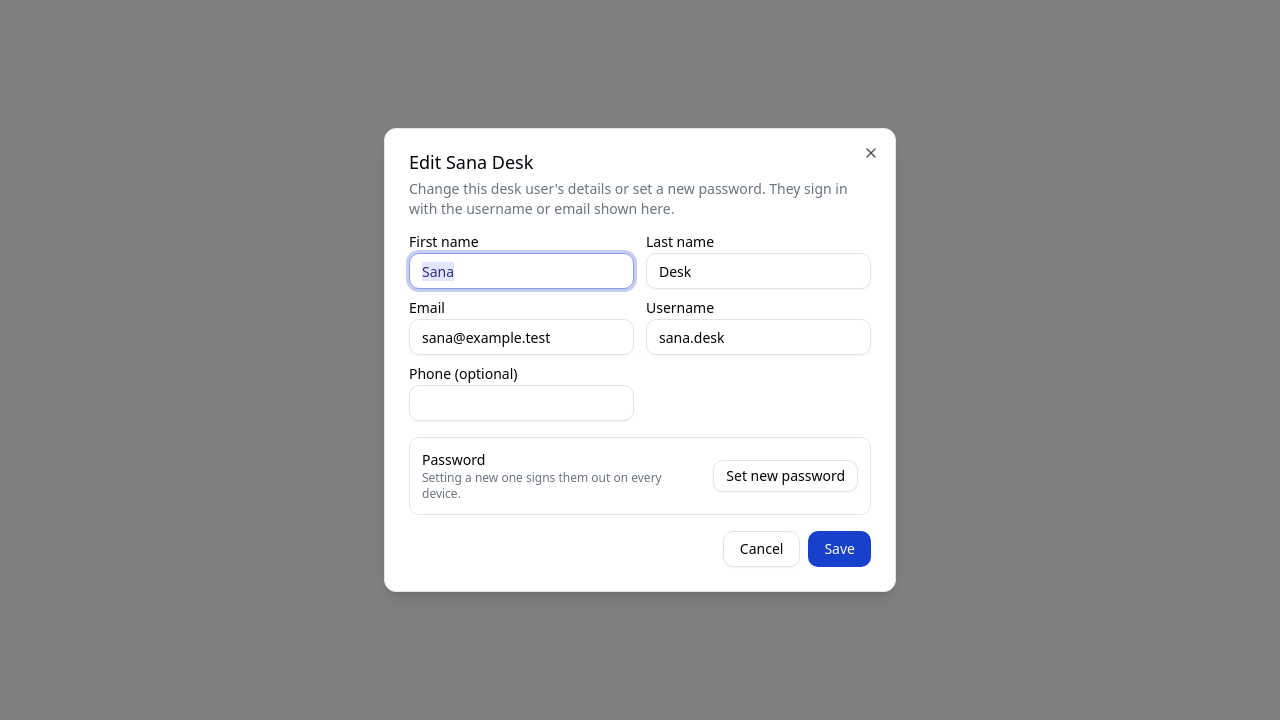
Test: EditApricartAccountDialog › refuses to send when nothing changed
The width and height of the screenshot is (1280, 720).
Click the button "Save": (840, 549) x1=808 y1=531 x2=871 y2=567
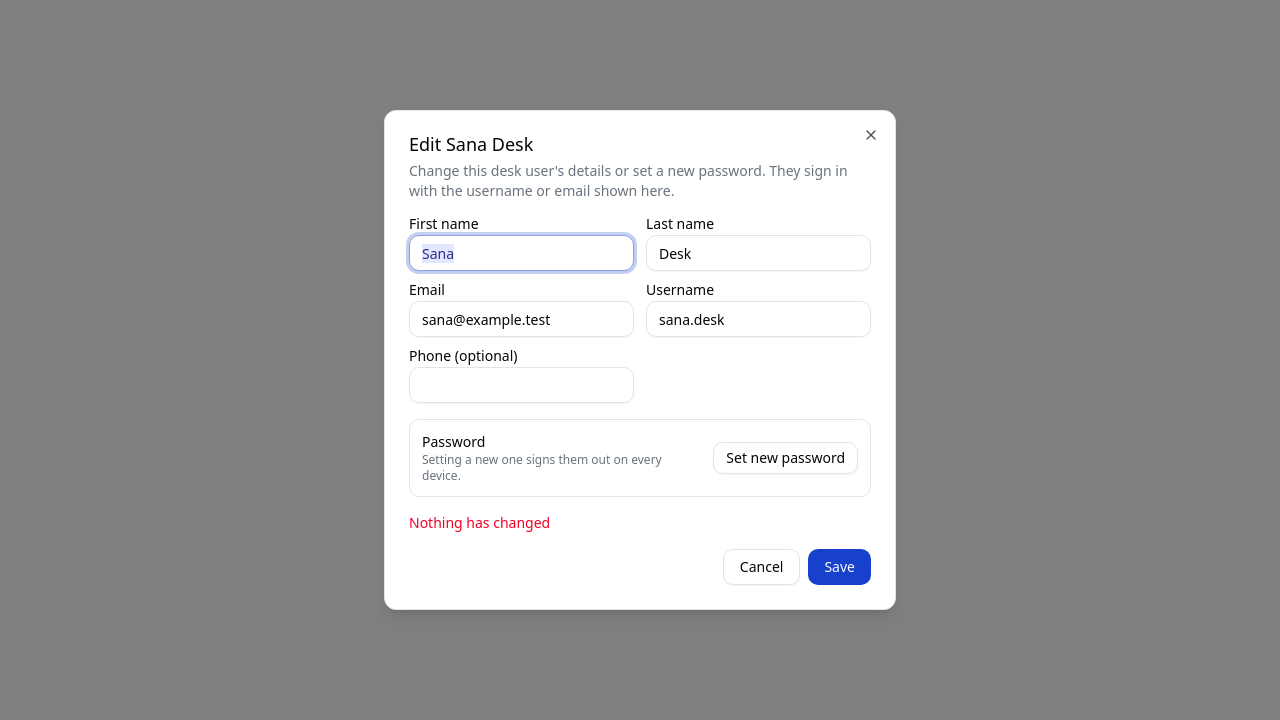
Expected: the message reads "Nothing has changed", x1=409 y1=513 x2=550 y2=532
